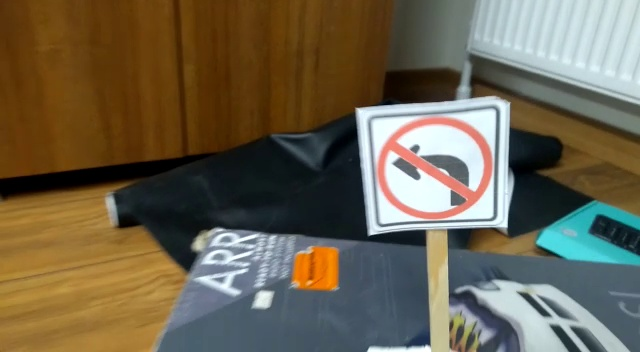sola_donulmez: (372, 97, 504, 232)
